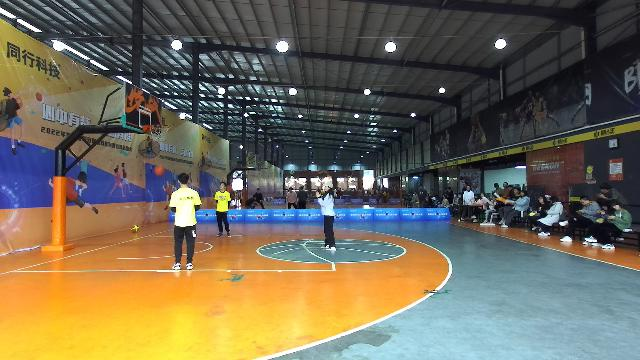ball: (154, 165, 164, 175), (131, 224, 139, 232)
basket: (150, 124, 170, 142)
